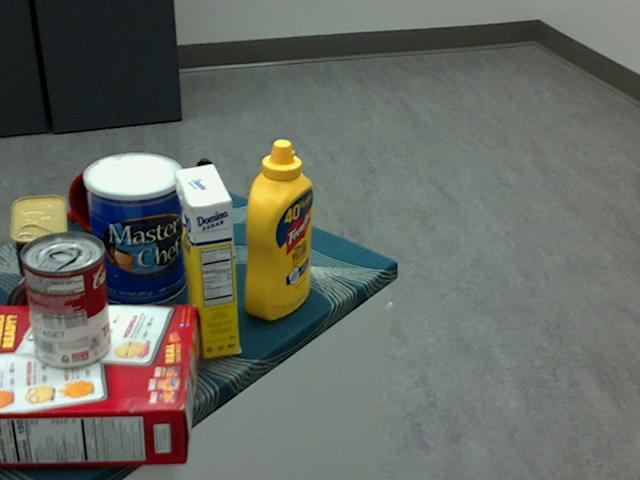cracker_box: (0, 302, 197, 466)
large_marker: (196, 157, 215, 251)
master_chef_can: (81, 152, 185, 308)
mug: (66, 154, 158, 240)
mustard_bottle: (243, 137, 313, 319)
potted_meat_can: (10, 193, 72, 303)
sugar_box: (175, 162, 239, 359)
tomato_soup_can: (20, 232, 109, 369)
tuna_fish_can: (6, 264, 100, 353)
